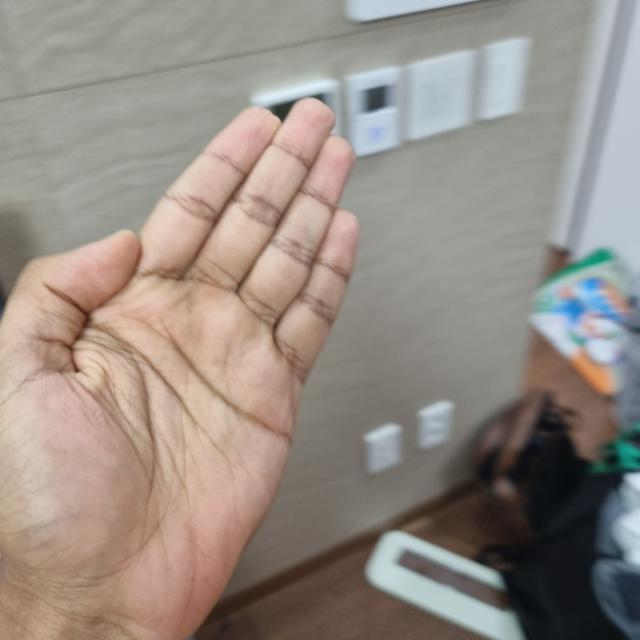Paper: (0, 92, 362, 639)
